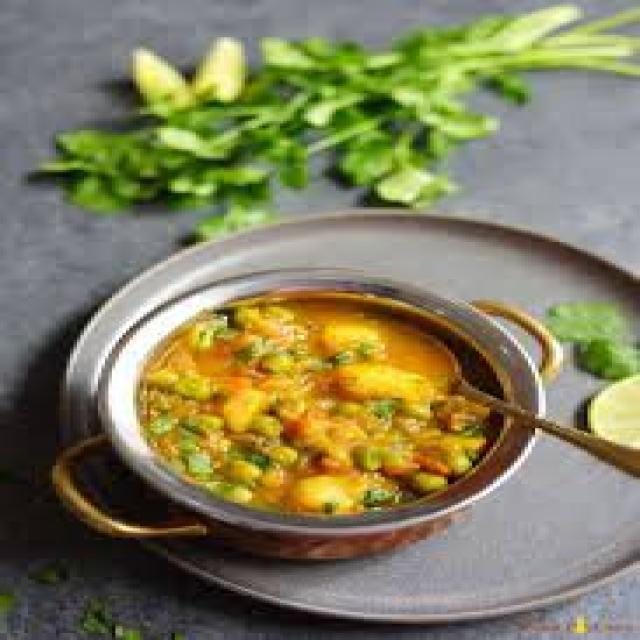Aloo Matar: (141, 306, 502, 524)
